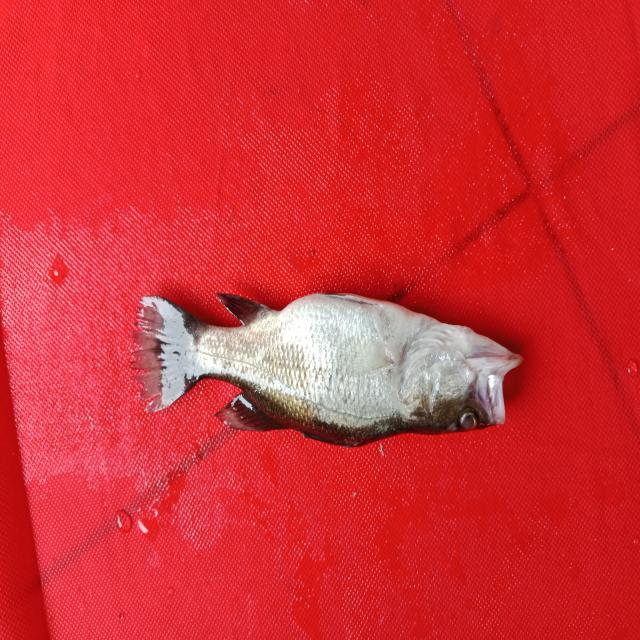ikan: (130, 258, 530, 464)
